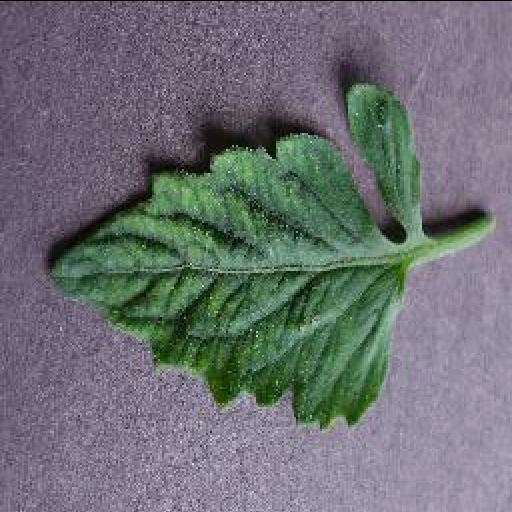Mosaic Virus: (44, 81, 422, 431)
